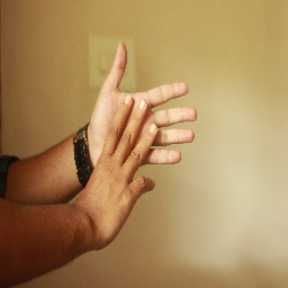M: (83, 40, 202, 207)
